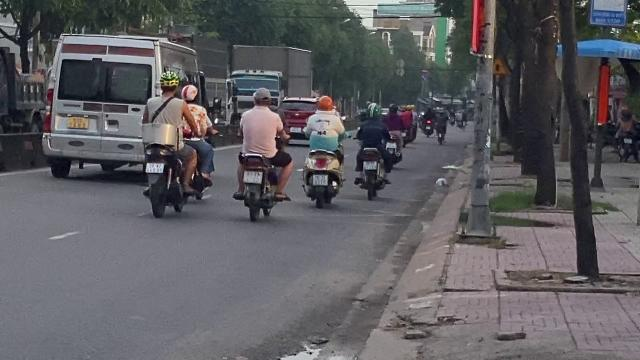helmet: (156, 70, 180, 94), (180, 84, 198, 103), (316, 95, 334, 111)
licenseplate: (244, 170, 262, 184), (146, 163, 164, 173), (313, 174, 327, 185)
motorcyclist: (139, 68, 215, 216), (230, 87, 292, 221), (298, 94, 346, 206)
nohelmet: (251, 88, 271, 106)
